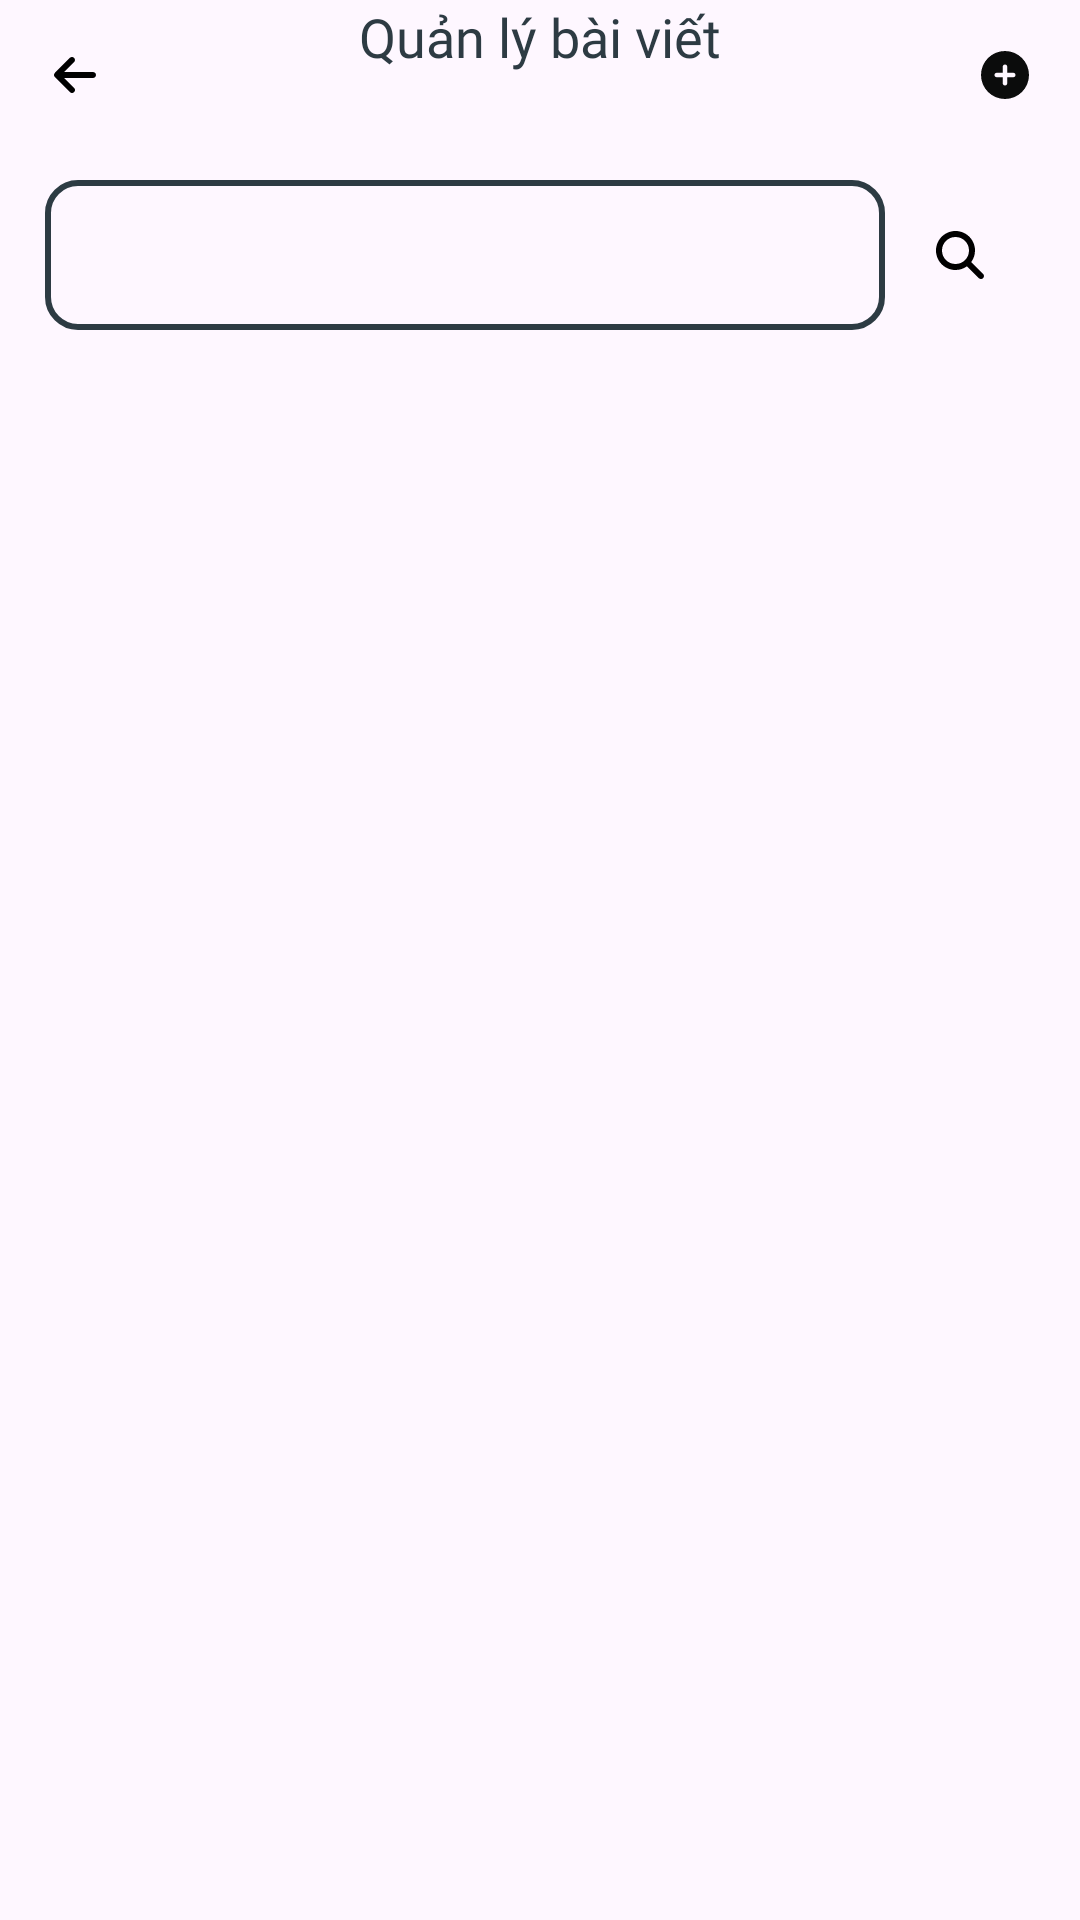

Screen size 1080px x 1920px. Icon name, then its center in pixels as (x=x, y=y):
arrow left: (x=75, y=75)
circle plus: (x=1005, y=75)
search: (x=960, y=255)
